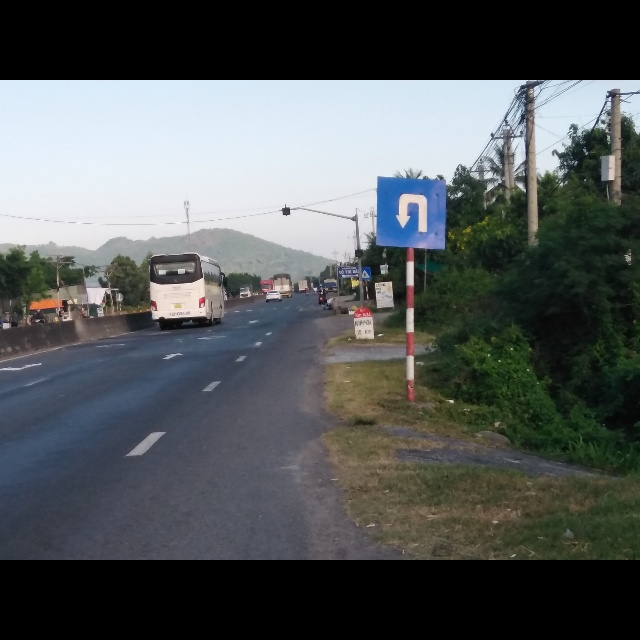Khu vực quay đầu xe: (372, 175, 446, 251)
